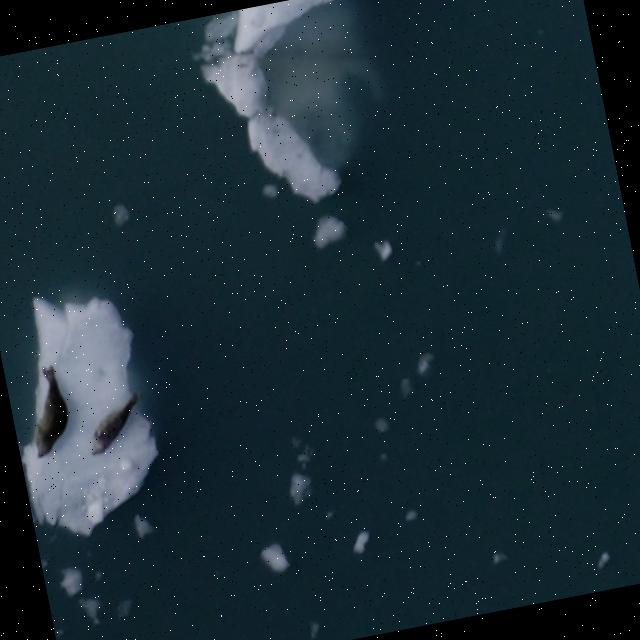seal: (73, 381, 149, 466), (24, 368, 75, 463)
